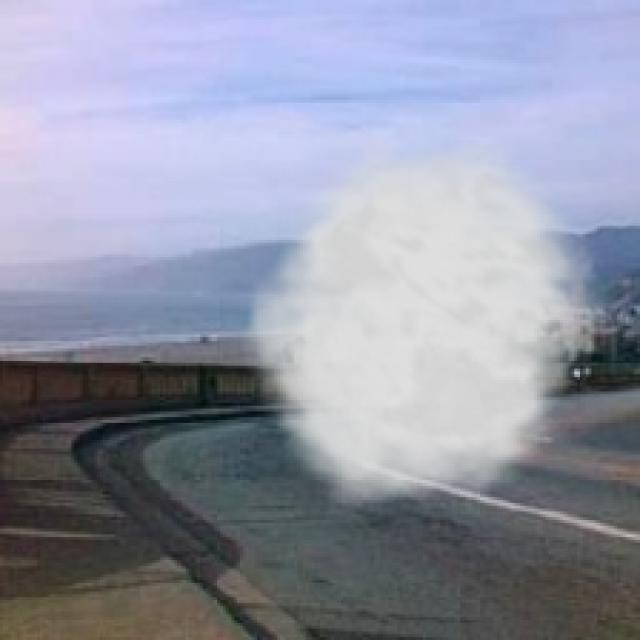smoke: (234, 131, 617, 523)
